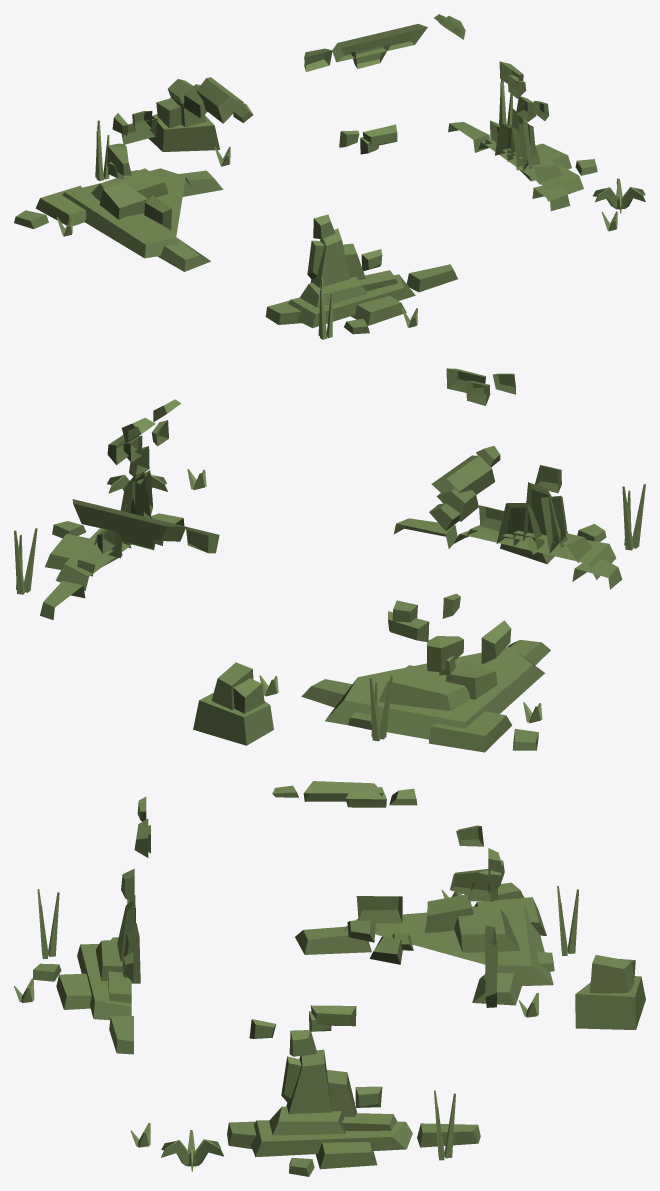
File: SA_Bld_HouseMedium_Growth_02.gltf
3 views of the same model, one above another, from view 1: azimuth 30°, elevation 25°; view 2: azimuth 150°, elevation 25°; view 3: azimuth 270°, elevation 25° (orthographic). The views are drawn at different scales.
Parts seen in each view (by area): view 1: SA_Bld_HouseMedium_Growth_02; view 2: SA_Bld_HouseMedium_Growth_02; view 3: SA_Bld_HouseMedium_Growth_02.
Boxes of the visible parts, box(x1,y1,x2,y2) form: SA_Bld_HouseMedium_Growth_02: box(14, 14, 645, 339); SA_Bld_HouseMedium_Growth_02: box(14, 368, 645, 752); SA_Bld_HouseMedium_Growth_02: box(14, 781, 645, 1176).
Size of the model in its own units: 23.18 by 7.39 by 21.44.
Materials: 1 (1 with a texture image).
